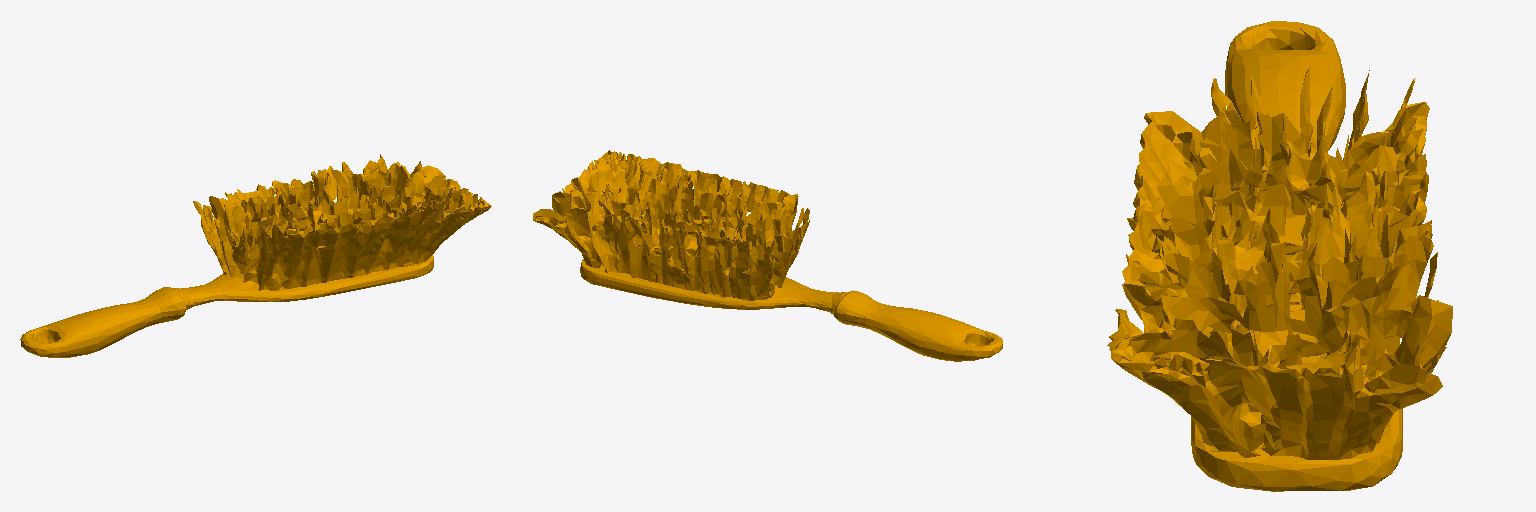
URDF robot description (red_brush):
<?xml version="1.0"?>
<robot name="red_brush">
  <link name="red_brush">
    <visual>
      <origin xyz="0 0 0" rpy="0 0 0"/>
      <geometry>
        <mesh filename="red_brush.obj" scale="1 1 1"/>
      </geometry>
    </visual>
    <collision>
      <origin xyz="0 0 0" rpy="0 0 0"/>
      <geometry>
        <mesh filename="red_brush.obj" scale="1 1 1"/>
      </geometry>
    </collision>
    <inertial>
      <origin xyz="0 0 0" rpy="0 0 0"/>
      <mass value="0.07000000"/>
      <inertia ixx="0.0000364583" ixy="0" ixz="0" iyy="0.0002690625" iyz="0" izz="0.0002818958"/>
    </inertial>
  </link>
</robot>

--- Render facts (derived) ---
3 views of the same robot in one strip: view 1: azimuth 30°, elevation 25°; view 2: azimuth 150°, elevation 25°; view 3: azimuth 270°, elevation 25° (orthographic).
Model red_brush with 1 links and 0 joints (none), rooted at red_brush, posed all joints at 0.
Links seen in each view (by area): view 1: red_brush; view 2: red_brush; view 3: red_brush.
Boxes of the visible links, <box> form: red_brush: <box>20,154,491,357</box>; red_brush: <box>533,150,1002,361</box>; red_brush: <box>1107,21,1452,491</box>.
Bounding box of the posed robot: 0.21 × 0.065 × 0.045 m (x, y, z).
Meshes: 1 distinct files referenced, 1 mesh visuals loaded (1 OBJ).
